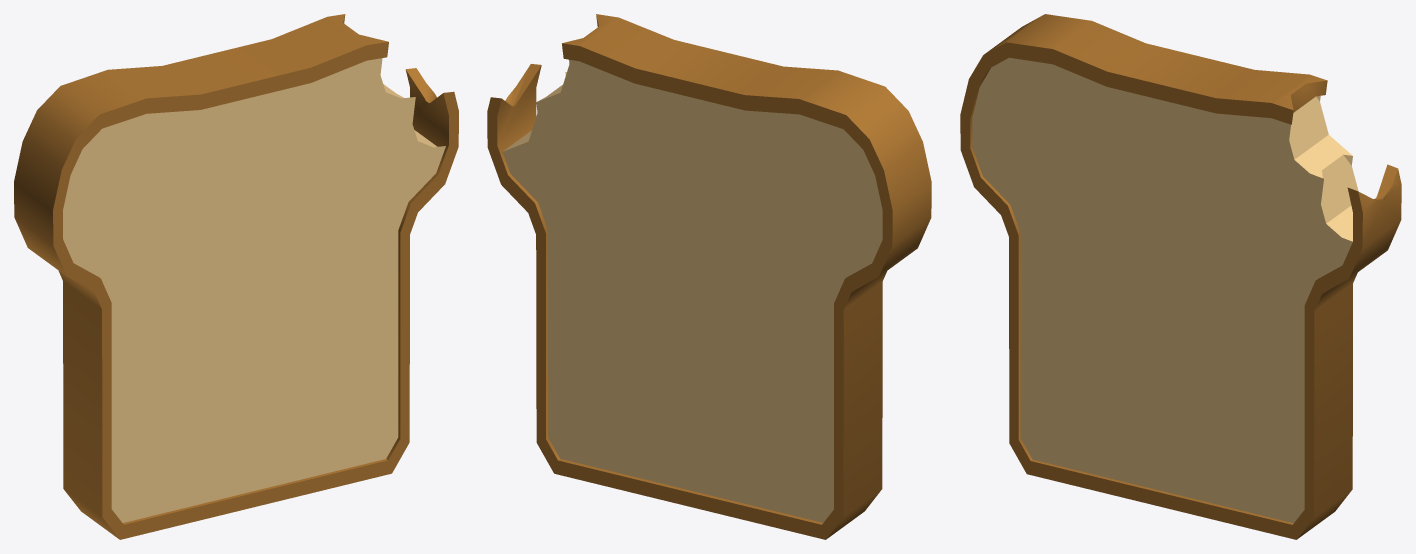
Rendered from toast_bitten.fbx.
3 views of the same model, side by side, from view 1: azimuth 30°, elevation 25°; view 2: azimuth 150°, elevation 25°; view 3: azimuth 330°, elevation 25° (orthographic).
Visible parts, largest first — view 1: Indside, Outside; view 2: Indside, Outside; view 3: Indside, Outside.
Boxes of the visible parts, box(x1,y1,x2,y2) form: Indside: box(63, 58, 445, 522); Outside: box(14, 14, 458, 539); Indside: box(502, 59, 882, 522); Outside: box(487, 14, 931, 539); Indside: box(972, 57, 1358, 523); Outside: box(960, 14, 1401, 539).
Size of the model in its own units: 94.46 by 96.75 by 15.74.
